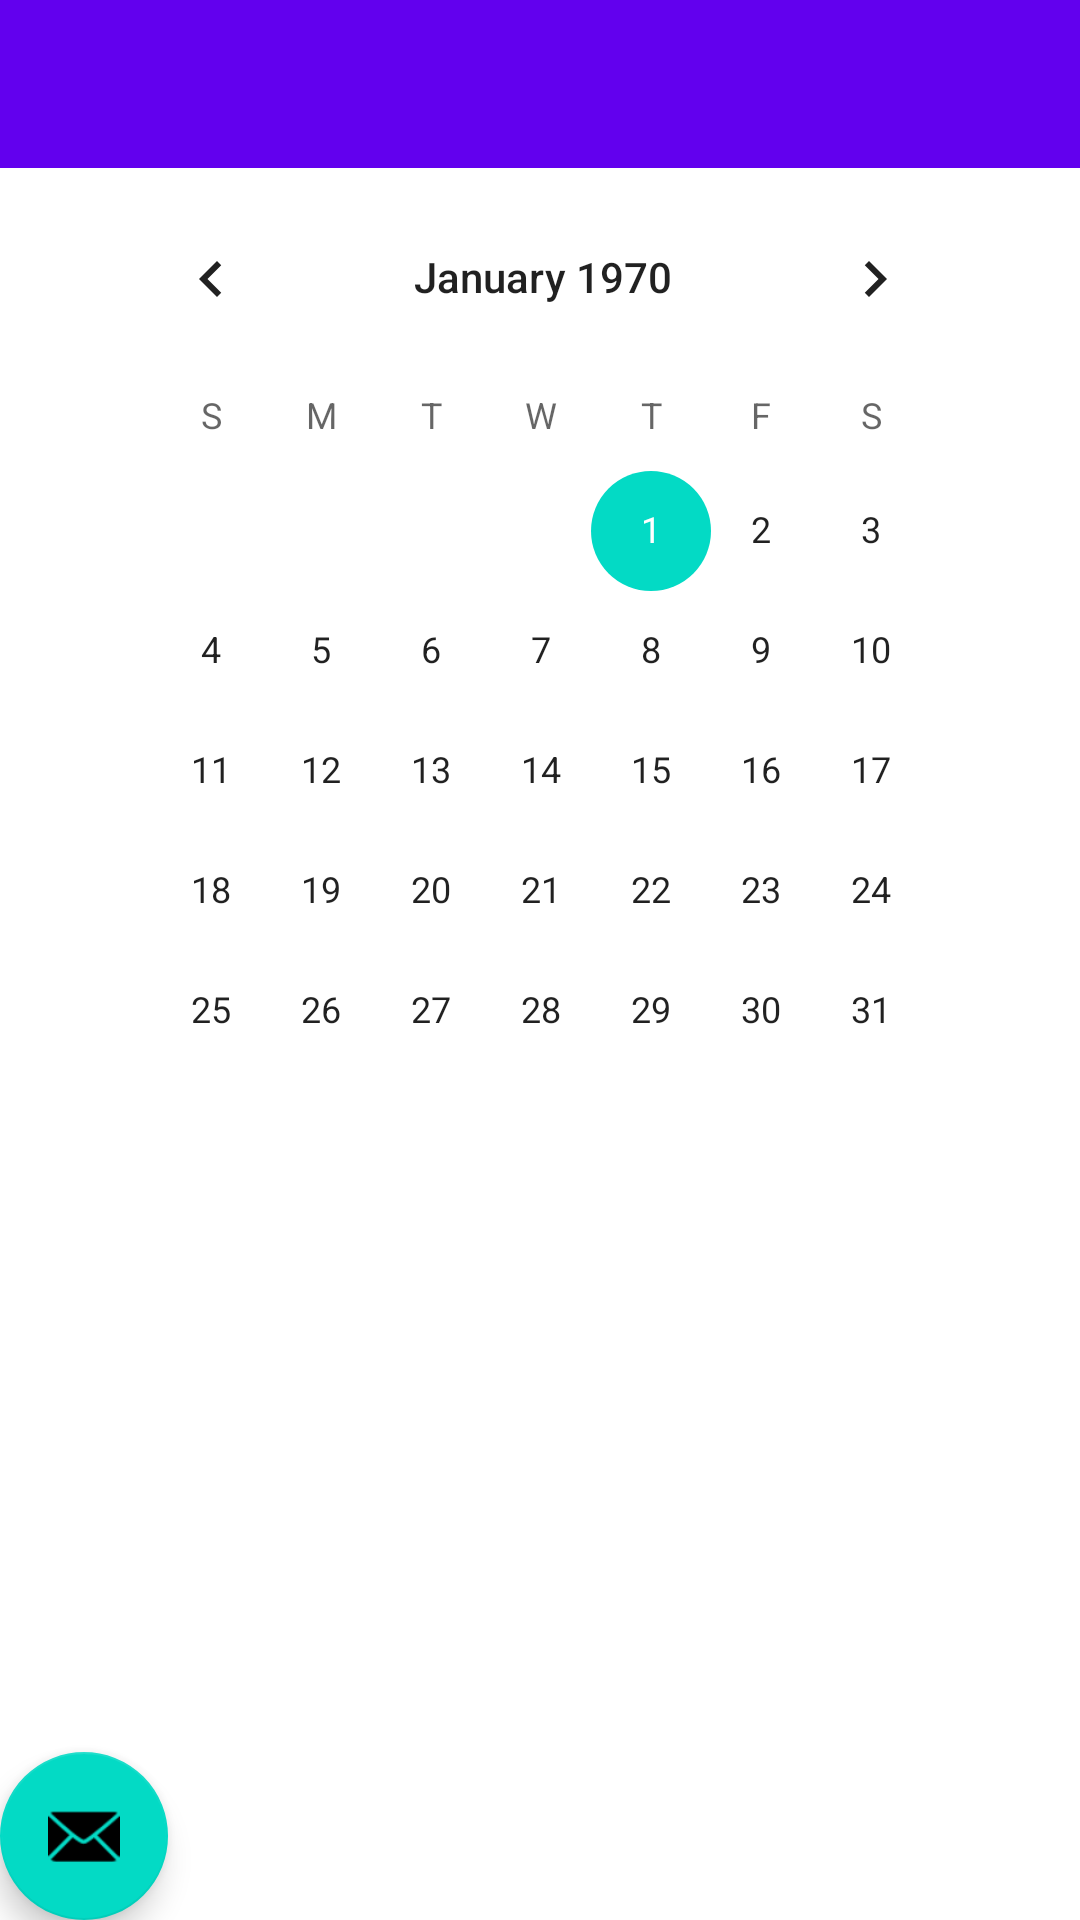

Where to tap for icons on this 1080×1920 app screen, as [x,y]:
email: [84,1836]
